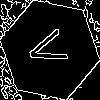V: (25, 25, 77, 71)
